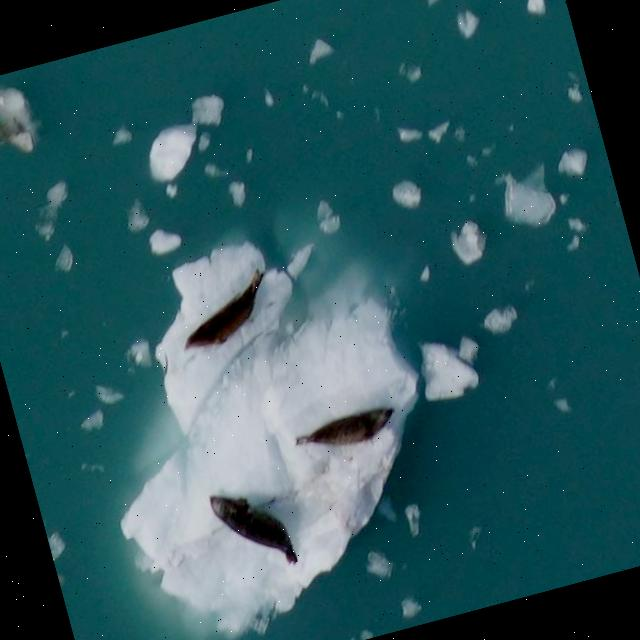seal: (184, 267, 264, 353), (207, 493, 298, 564), (295, 405, 393, 446)
